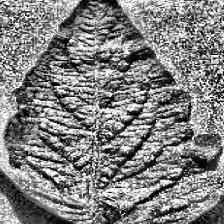spider mites: (0, 0, 220, 224)
